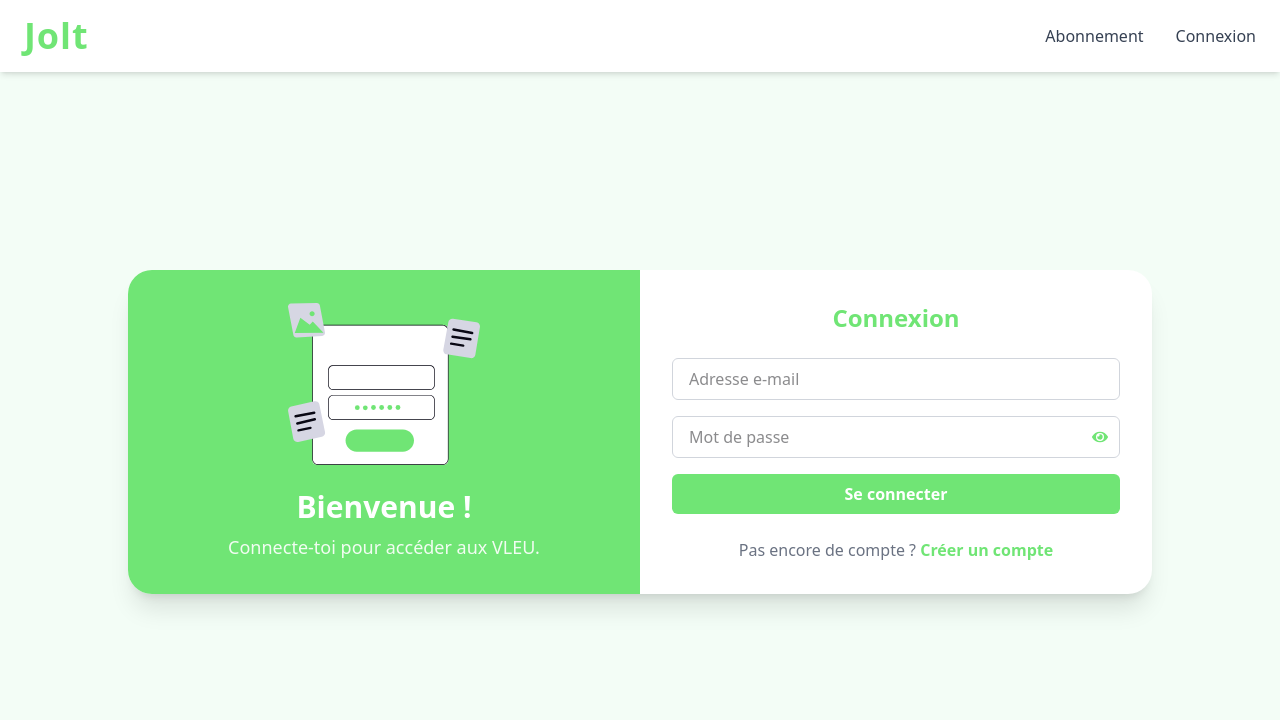
Page Auth - Login et Inscription Web (mock complet) › affiche et masque le mot de passe
The width and height of the screenshot is (1280, 720).
Type "test@test.com" into the field with placeholder "Adresse e-mail" at (896, 379), box [672,358,1120,400]
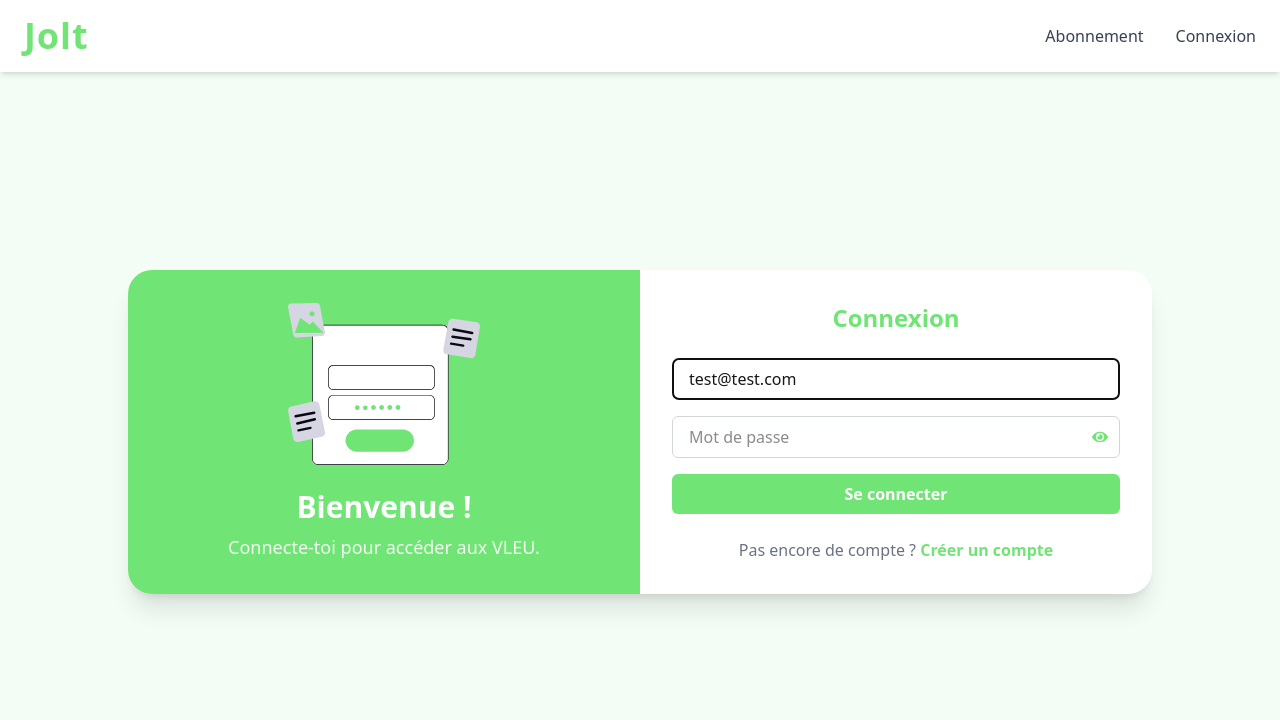
Type "MonSuperMotDePasse" into the password field with placeholder "Mot de passe" at (896, 437), box [672,416,1120,458]
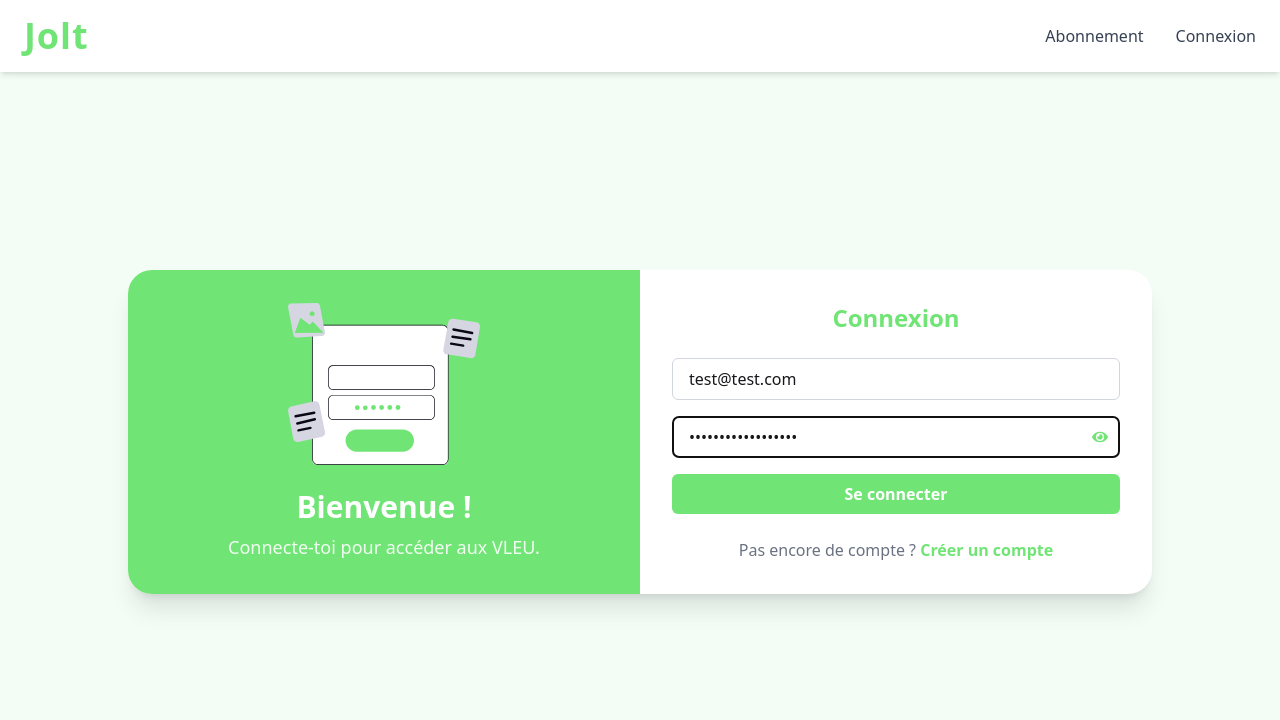
Click the button with test id "toggle-password-visibility" at (1100, 437), box [1092,429,1108,445]
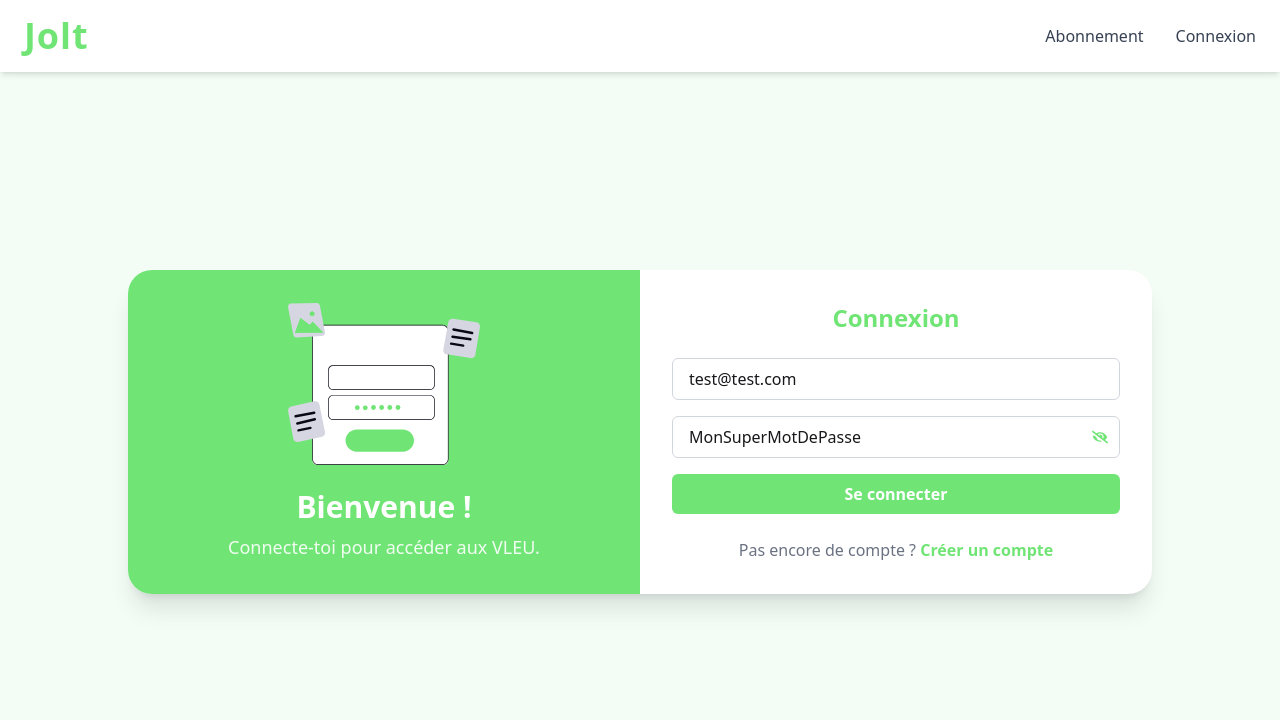
Expected: the 2nd field with placeholder "Mot de passe" shows its text, [672,416,1120,458]
Click the button with test id "toggle-password-visibility" at (1100, 437), box [1092,429,1108,445]
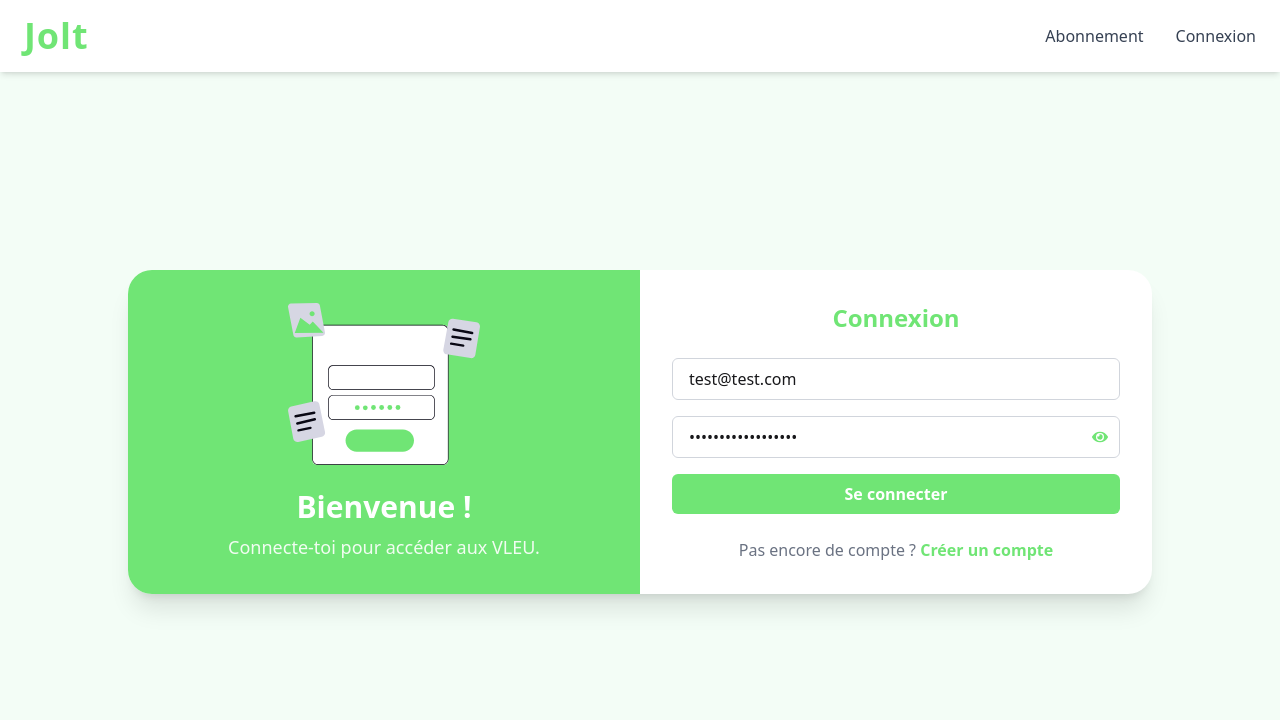
Expected: the password field with placeholder "Mot de passe" hides its text, [672,416,1120,458]
